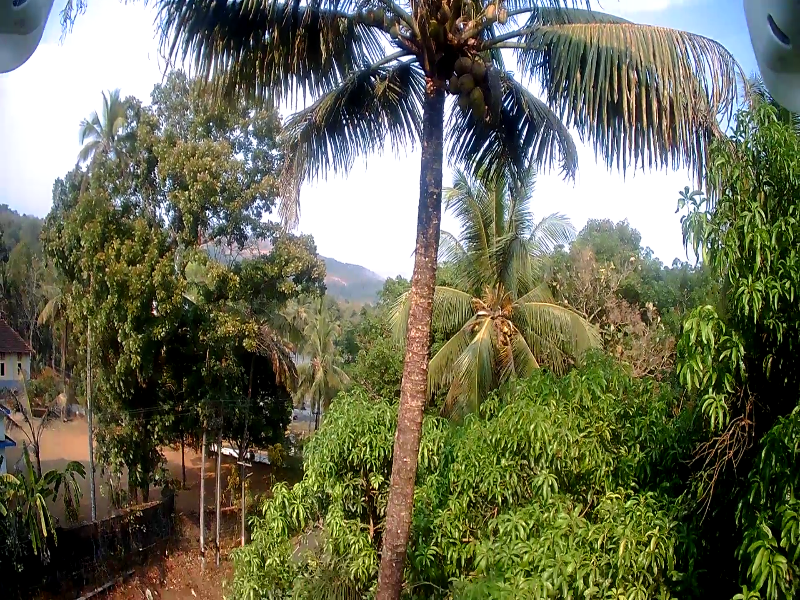coconut: (455, 90, 473, 110), (358, 8, 372, 28), (499, 6, 511, 26), (470, 62, 484, 79), (472, 88, 482, 109), (389, 26, 400, 40), (453, 76, 465, 88), (459, 79, 472, 89), (372, 6, 380, 22), (383, 13, 391, 29), (486, 2, 491, 21), (459, 60, 469, 69)
